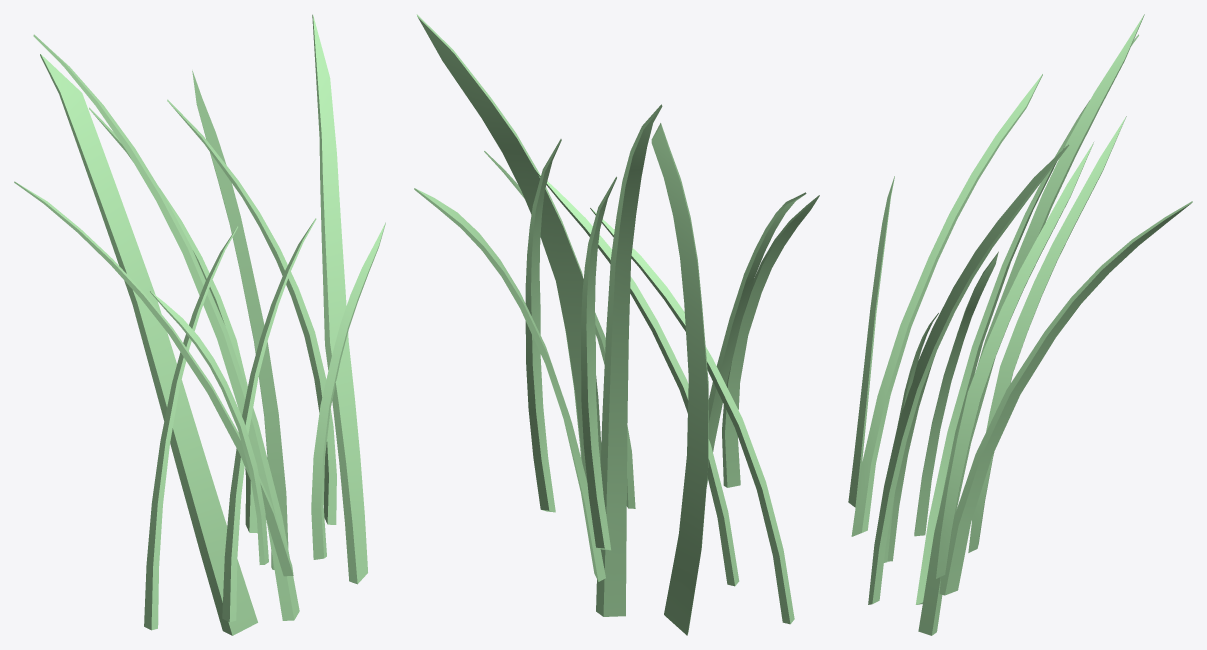
File: sm_animplants_03.gltf
3 renders of one model, left to right at view 1: azimuth 30°, elevation 25°; view 2: azimuth 150°, elevation 25°; view 3: azimuth 270°, elevation 25°, orthographic. The views are drawn at different scales.
Visible parts, largest first — view 1: sm_animplants_03; view 2: sm_animplants_03; view 3: sm_animplants_03.
Part boxes in pixels (x1,y1,x2,y2): sm_animplants_03: (14, 14, 385, 635); sm_animplants_03: (414, 14, 819, 635); sm_animplants_03: (848, 14, 1192, 635).
Bounding box in the file's own units: 0.4869 × 0.7884 × 0.45.
